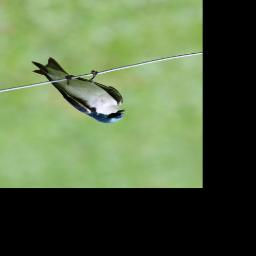Swallow: (28, 47, 131, 134)
